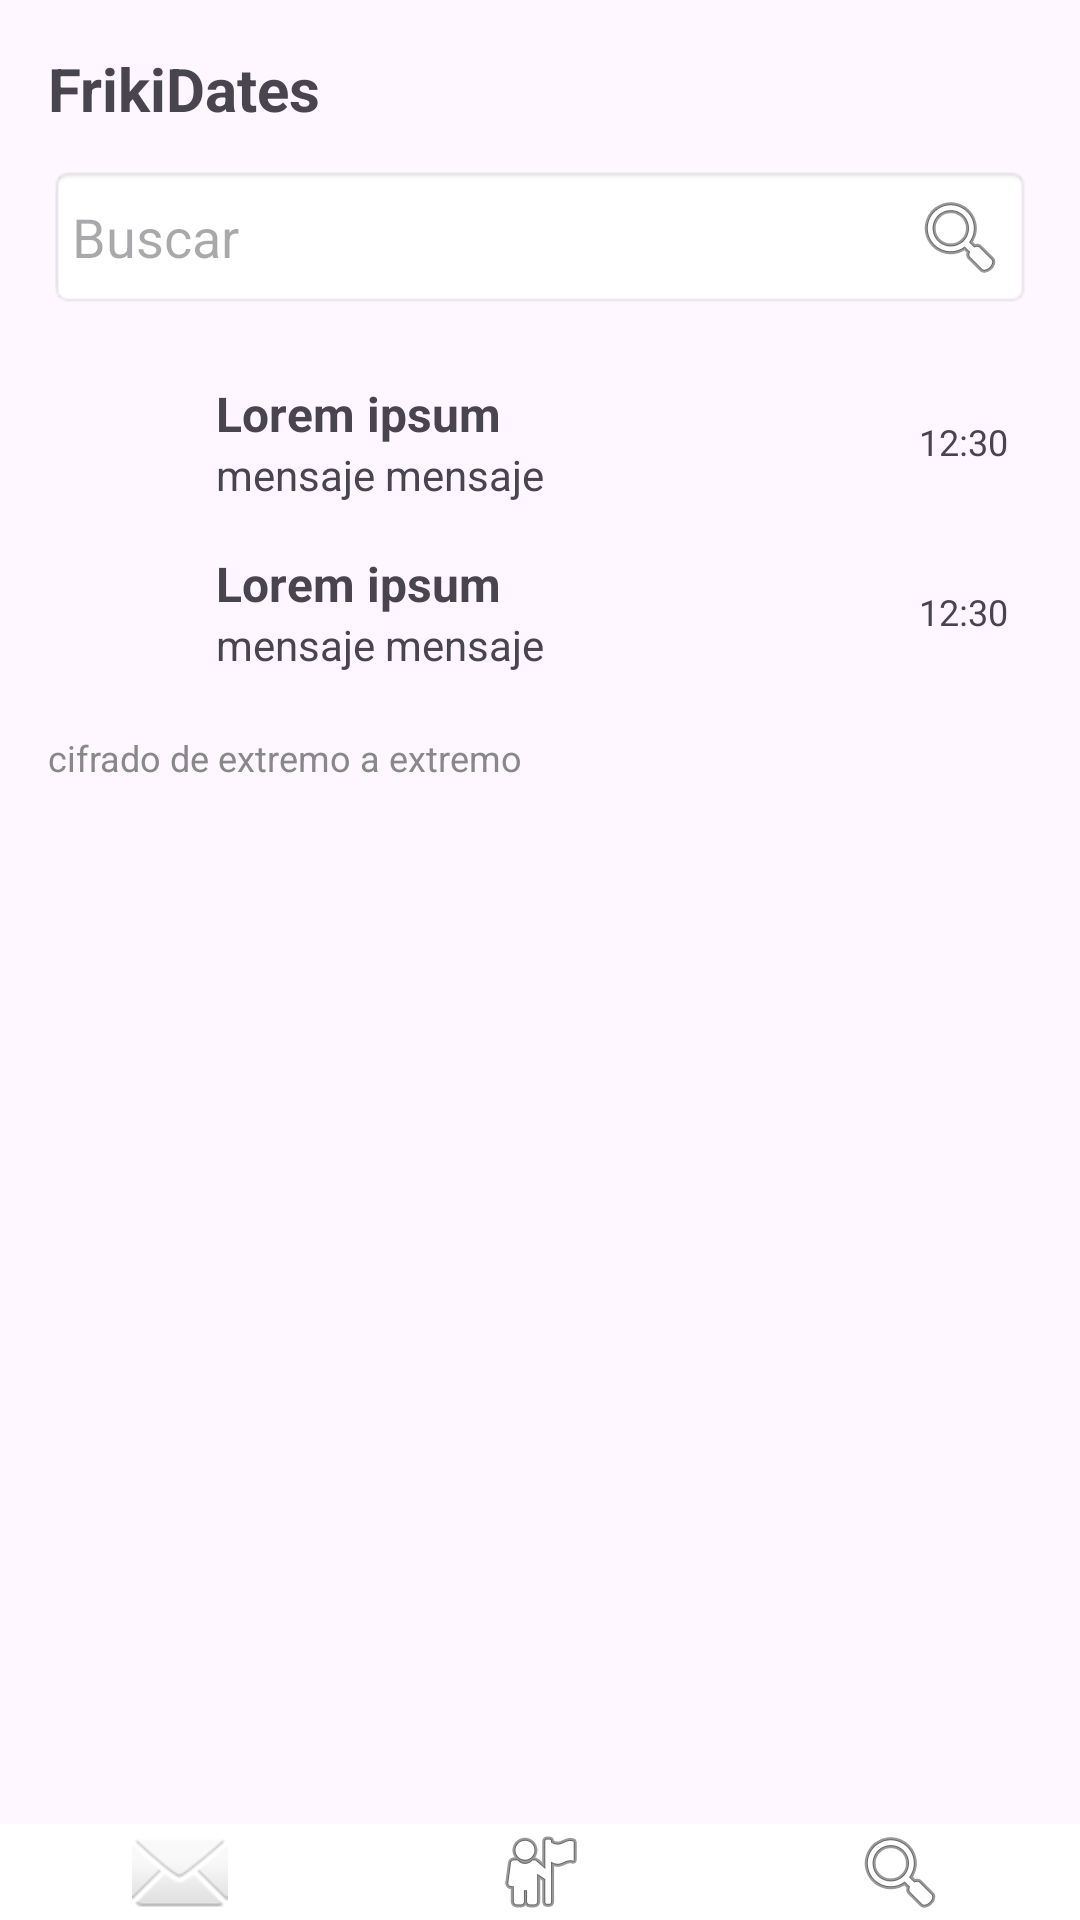

Named icons in this screenshot (1080*1920) and their centers, (x=x, y=y):
email: (x=180, y=1874)
myplaces: (x=541, y=1872)
